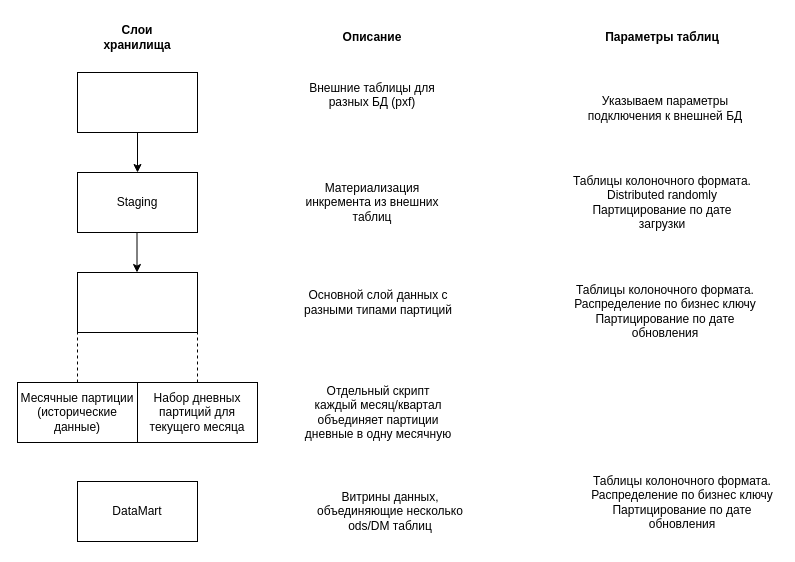
This 795x562 diagram has some shape labels left out. The box of each missing label's shape, as (x1, y1, x2, y2) in pixels:
External: (76, 72, 198, 132)
ODS: (76, 272, 198, 332)
